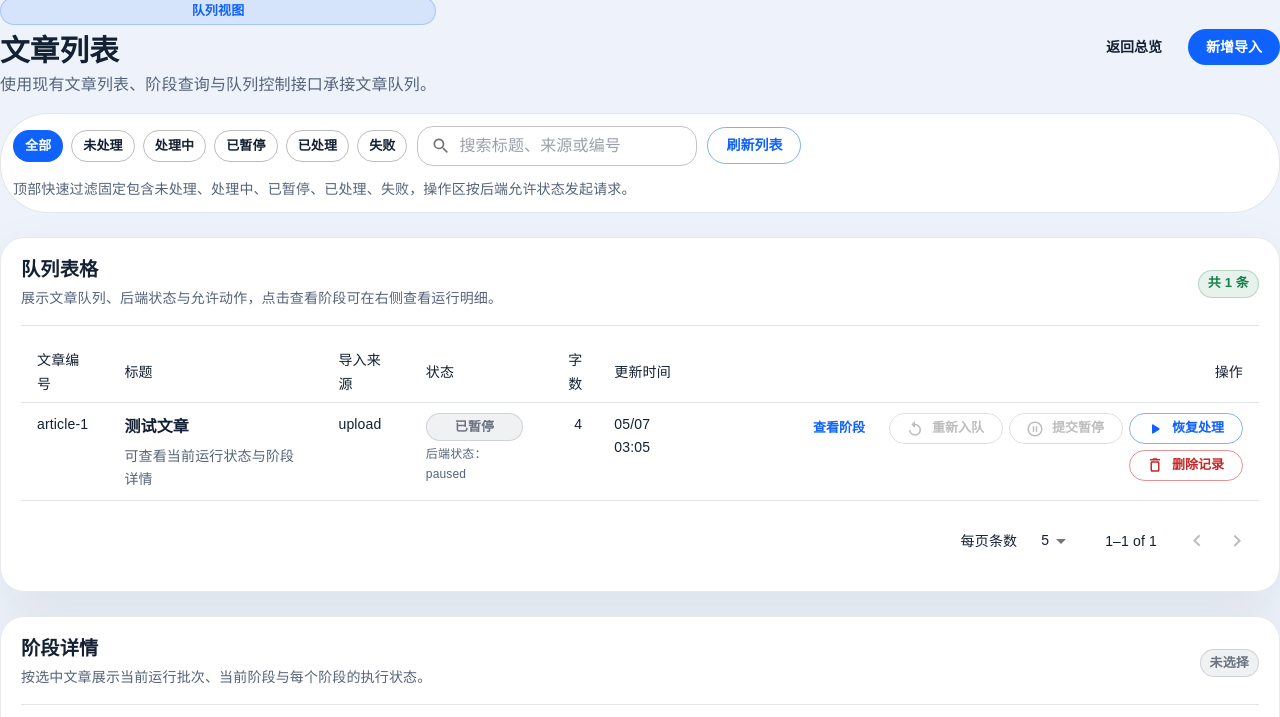
Test: ArticlesPage › shows explicit detail and queue action wording for operators
Expected: the heading "测试文章" is shown, x1=124 y1=418 x2=189 y2=435
Expected: the button "恢复处理" is enabled, x1=1129 y1=413 x2=1243 y2=444
Click the button "查看阶段". click: click(839, 429)
box: x1=795 y1=413 x2=883 y2=444
(page scrolled)
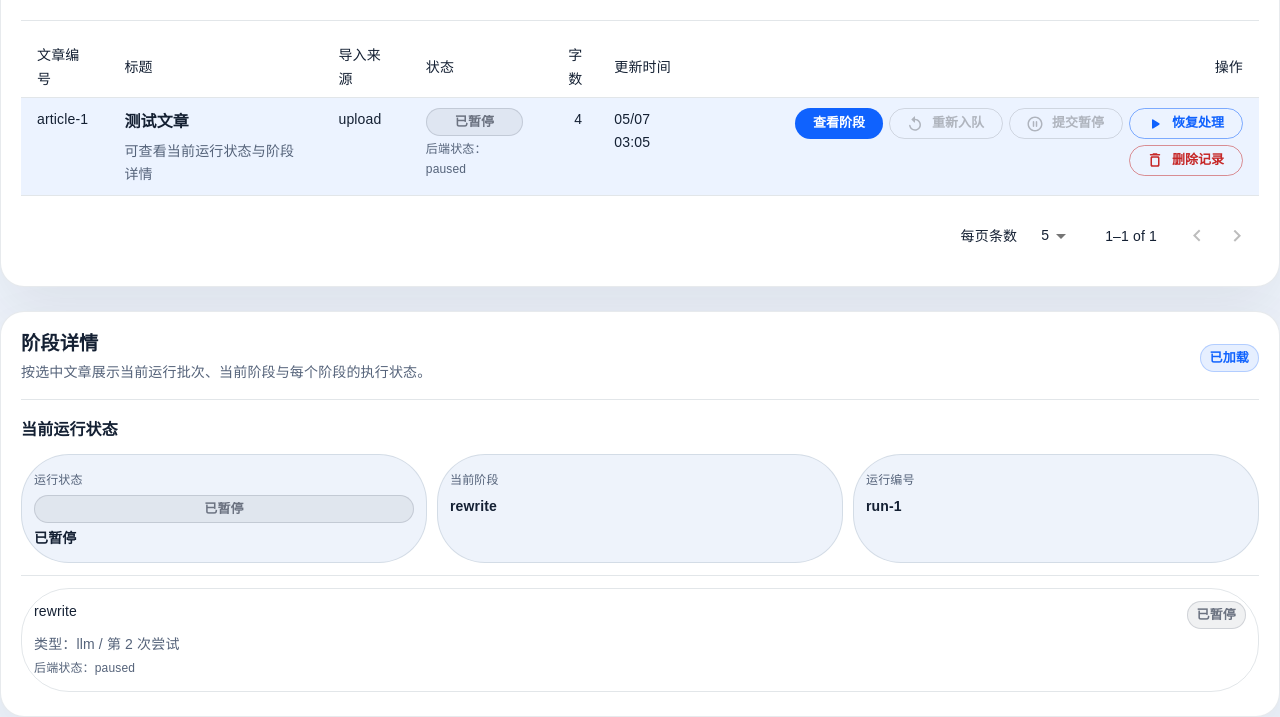
Expected: the heading "当前运行状态" is shown, x1=21 y1=421 x2=118 y2=438
Expected: the 2nd text "已暂停" is shown, x1=204 y1=501 x2=244 y2=516
Expected: the text "当前阶段" is shown, x1=450 y1=473 x2=499 y2=487
